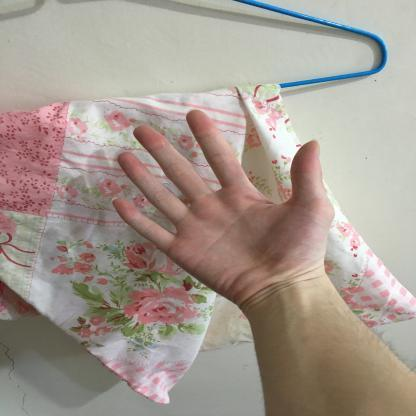bare_hand: (108, 98, 348, 306)
